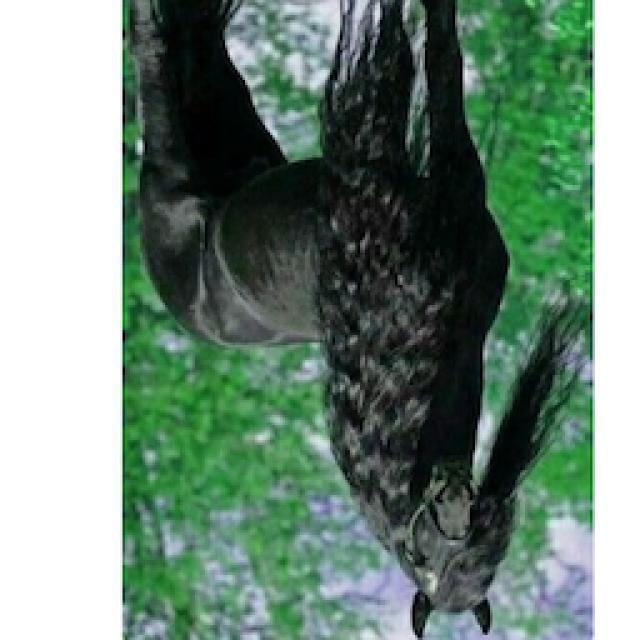Horse: (120, 2, 588, 640)
